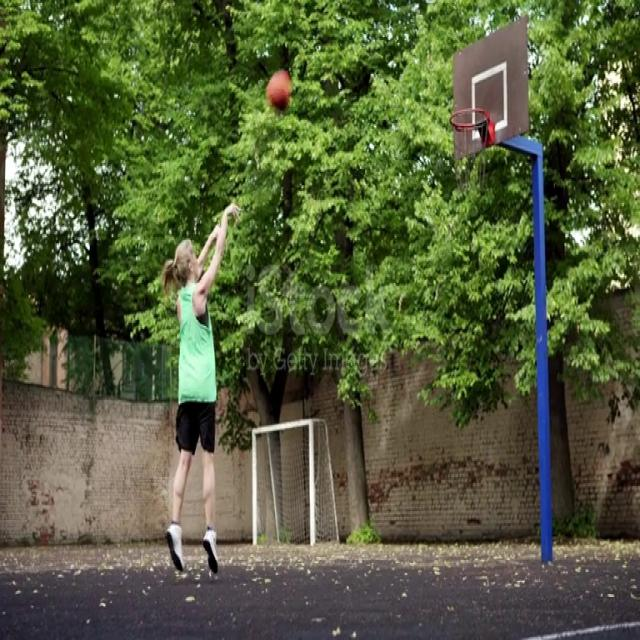ball: (265, 68, 293, 114)
